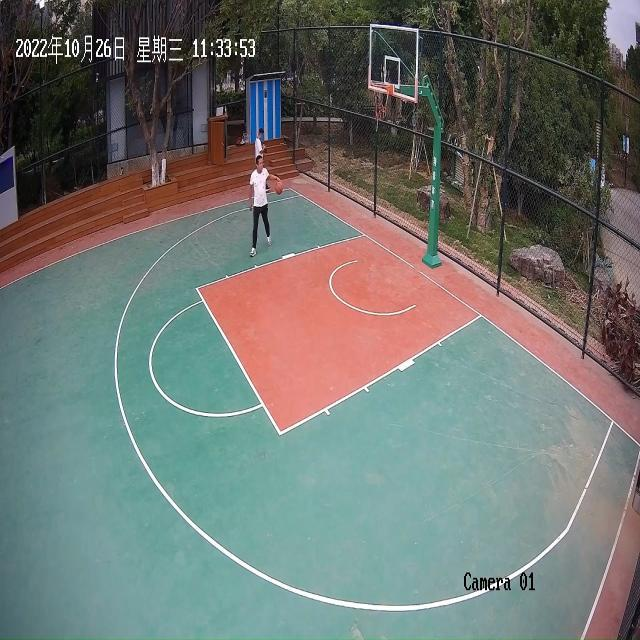rim: (274, 182, 284, 194)
